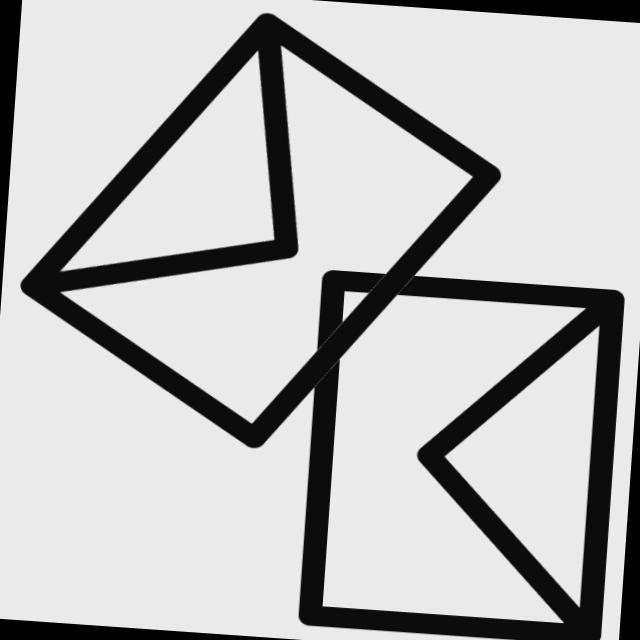letter: (1, 1, 524, 476), (292, 262, 633, 640)
